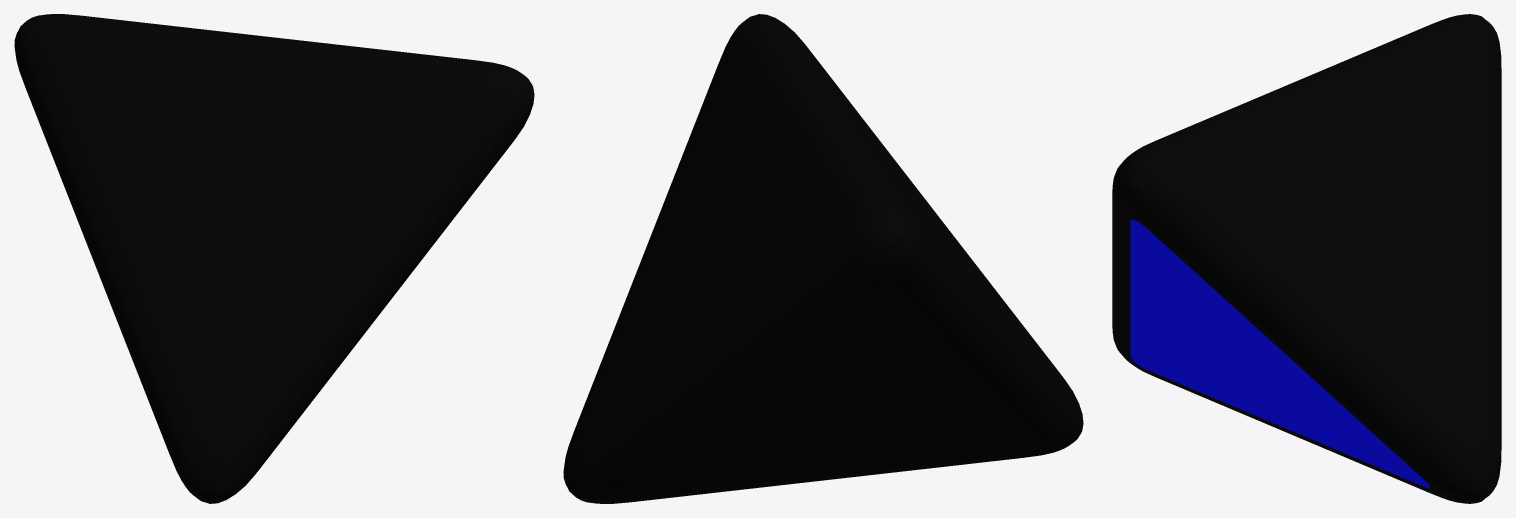
The model's file is t_blue.fbx.
The picture shows the model from 3 angles, left to right: view 1: azimuth 30°, elevation 25°; view 2: azimuth 150°, elevation 25°; view 3: azimuth 270°, elevation 25°; orthographic projection. The views are drawn at different scales.
Parts seen in each view (by area): view 1: t_blue; view 2: t_blue; view 3: t_blue.
Boxes of the visible parts, x1,y1,x2,y2 form: t_blue: (14, 14, 534, 503); t_blue: (563, 14, 1083, 503); t_blue: (1112, 14, 1501, 503).
Size of the model in its own units: 88.28 by 88.28 by 88.28.
